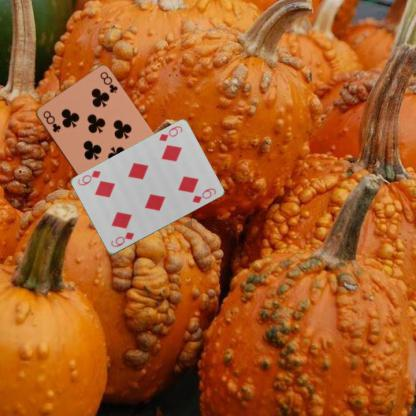6d: (108, 229, 136, 248), (156, 124, 184, 142)
8c: (40, 108, 62, 134)
